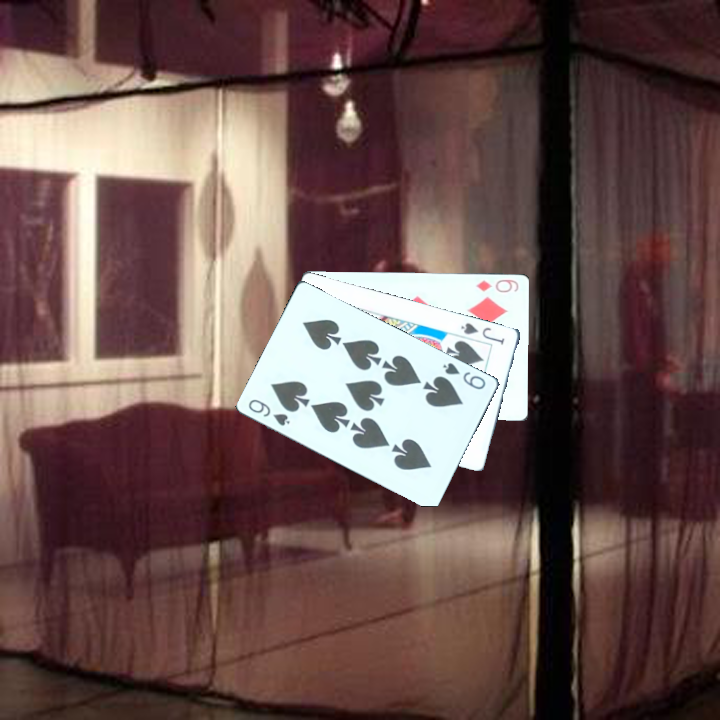6d: (471, 275, 521, 295)
9s: (439, 358, 488, 392), (244, 395, 292, 428)
Js: (454, 319, 507, 352)
